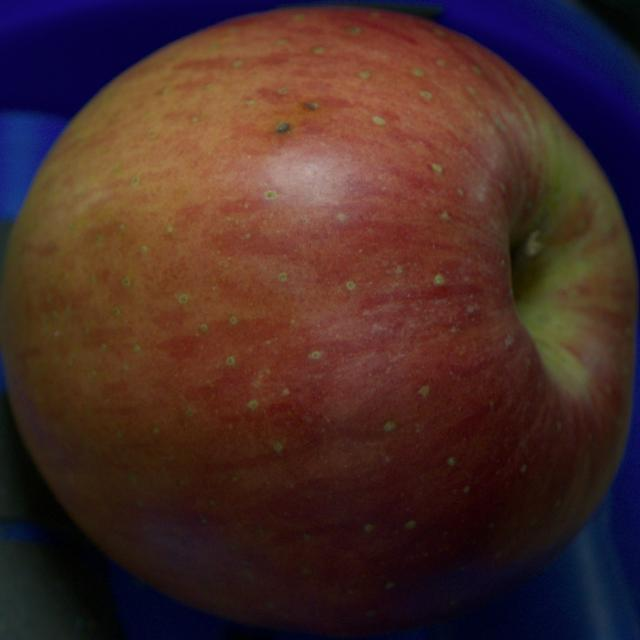apple: (0, 8, 638, 634)
pest: (274, 122, 291, 132), (304, 102, 318, 109)
